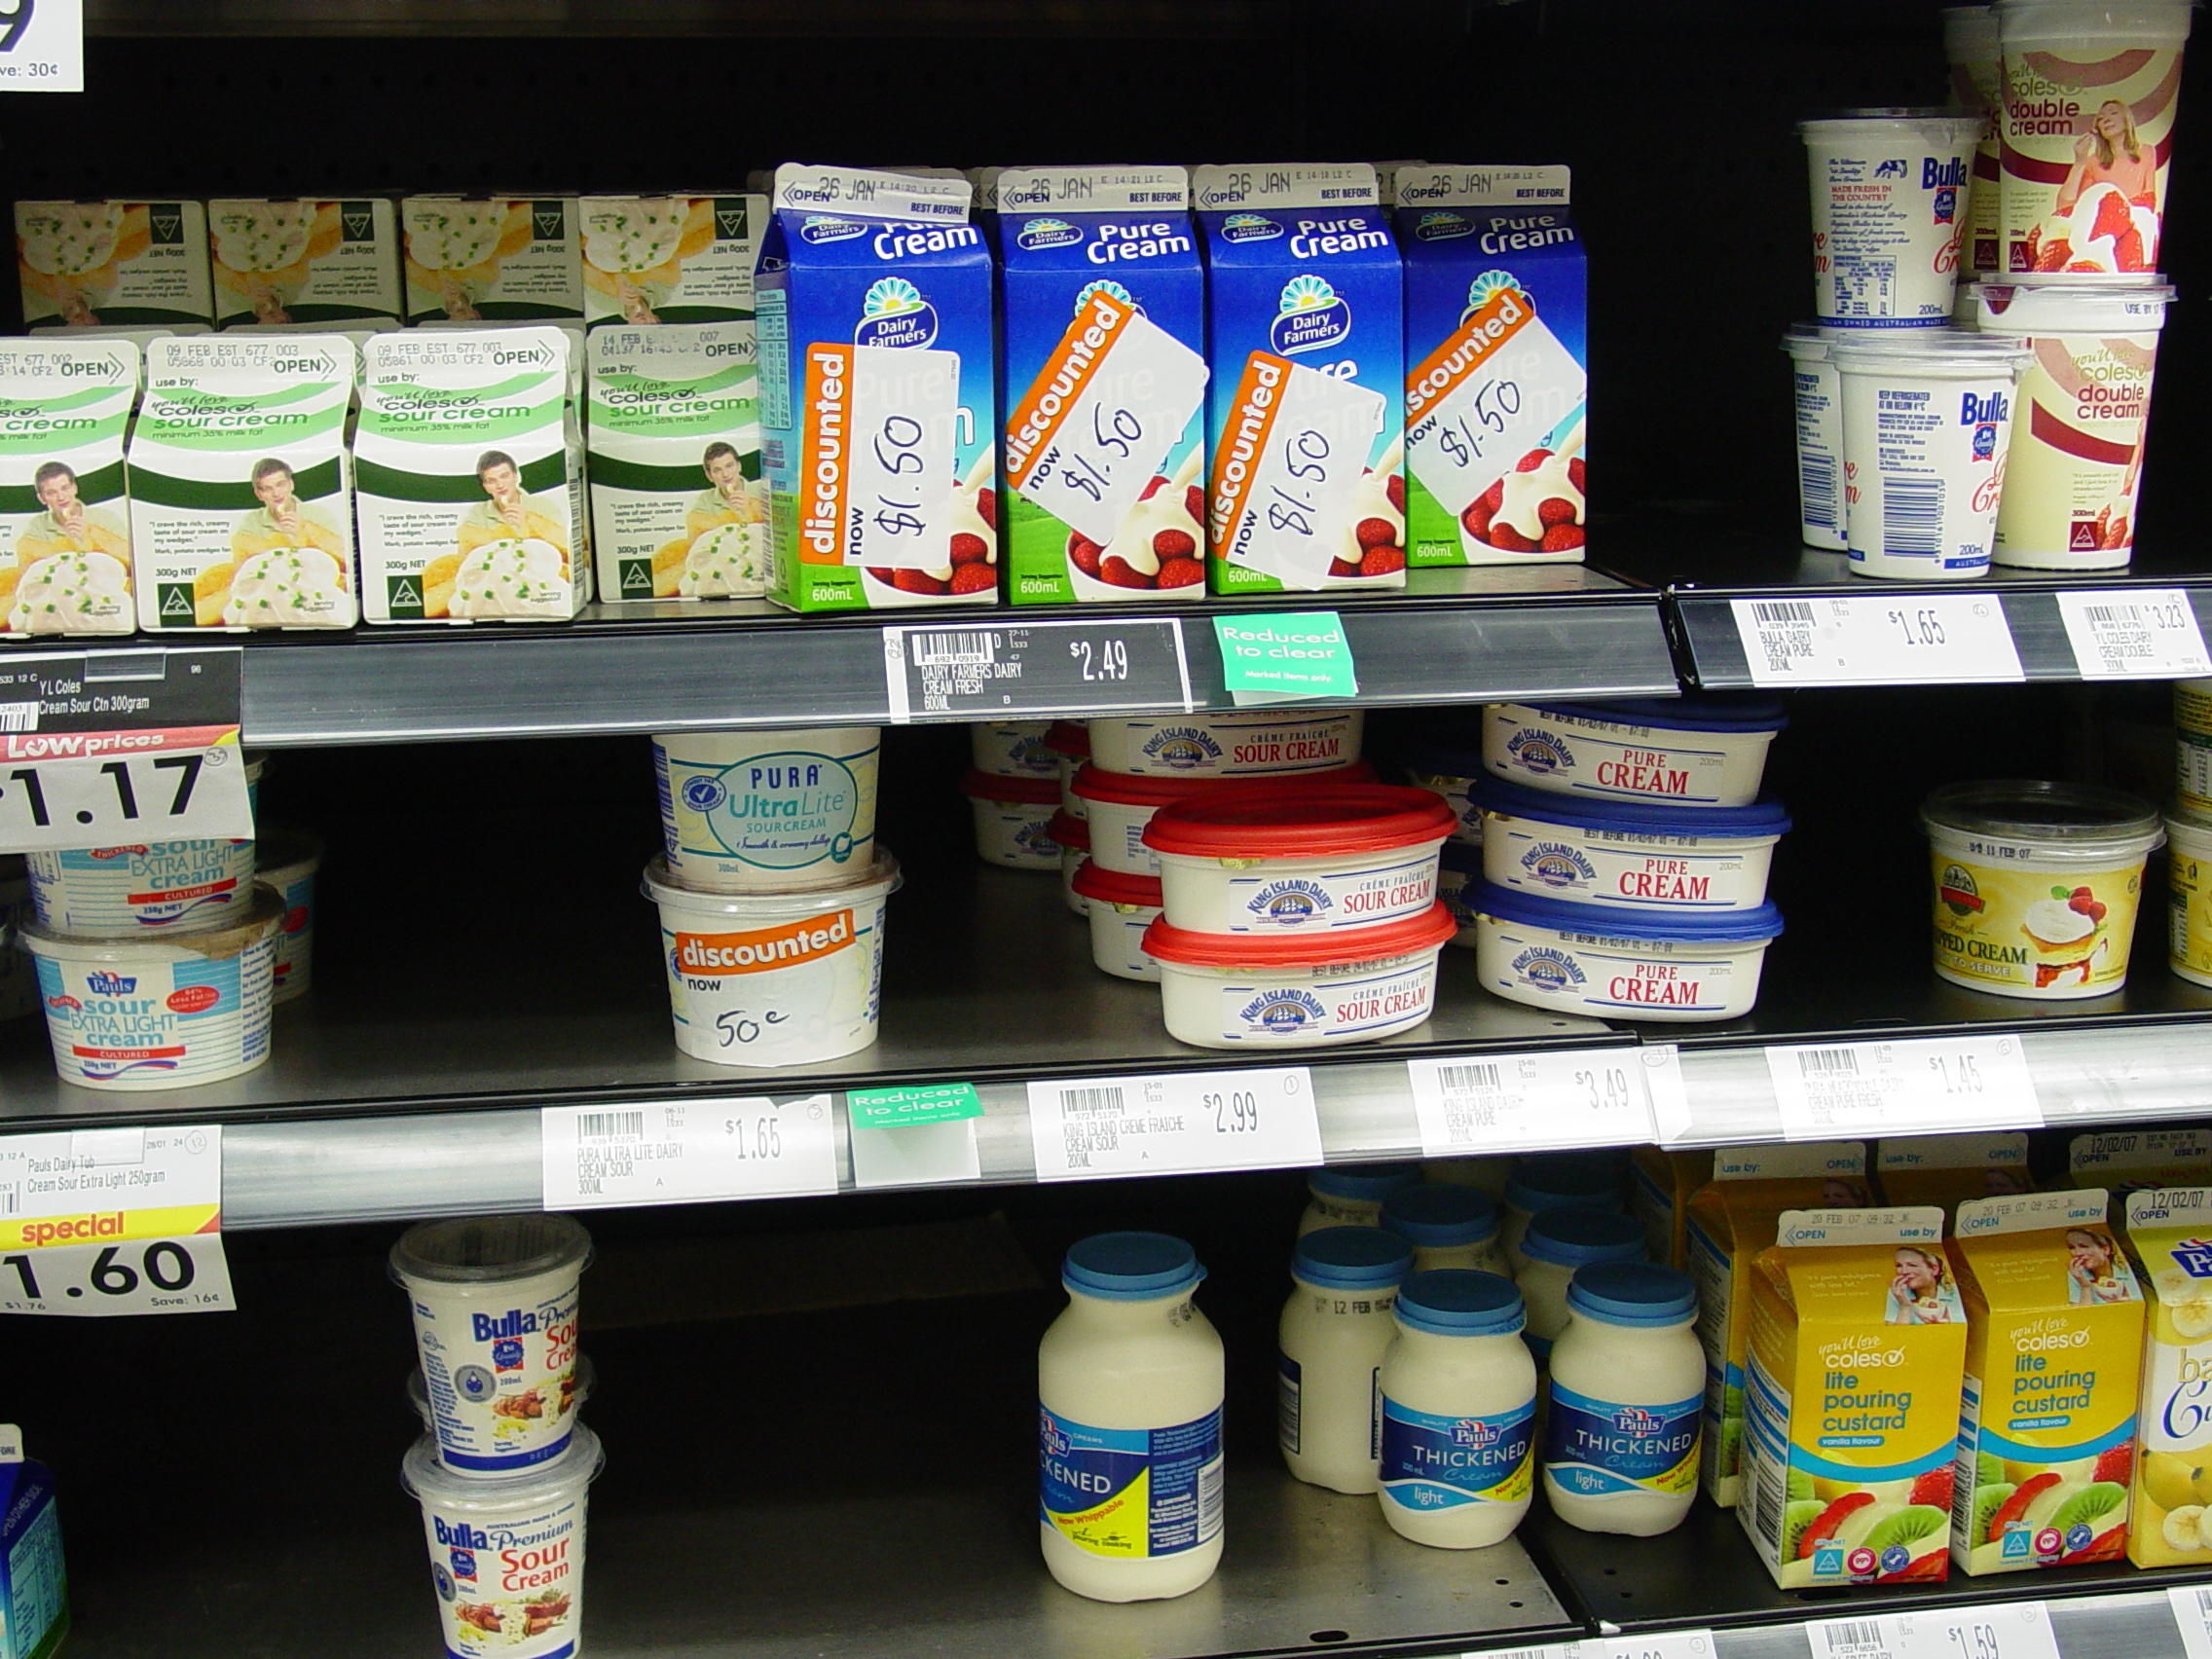Misplacement: (1127, 714, 1463, 1026), (1801, 112, 2012, 582)
Out-of-stock: (610, 1223, 1014, 1640), (303, 781, 671, 1060), (1592, 176, 1787, 568), (1799, 714, 1935, 1026)
